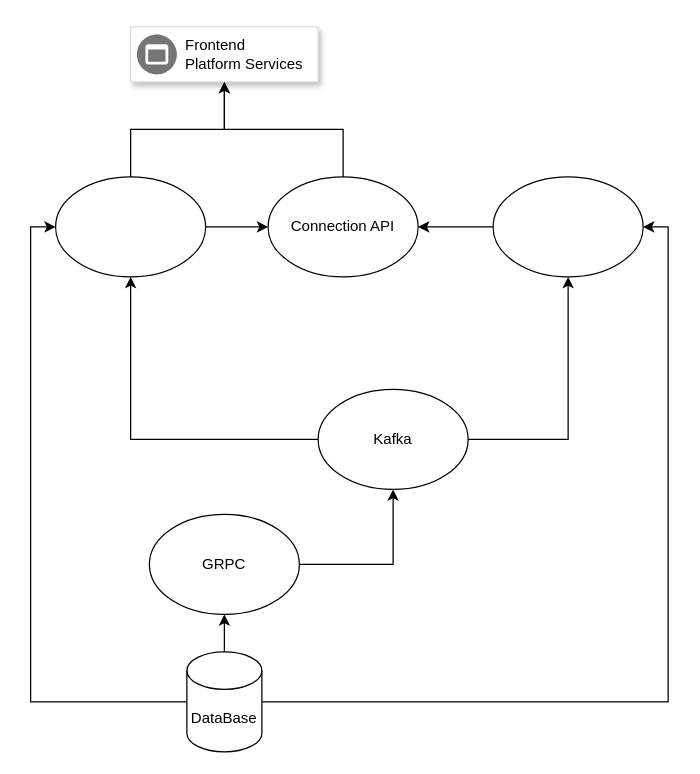
The diagram is 700 pixels wide and 774 high, and some of its shapes have lost their labels. The shapes that lost their labels are listed below. From the top down, each one's centre as x and y in pixels, then its label:
point (130, 226): Person API
point (567, 226): Location API
